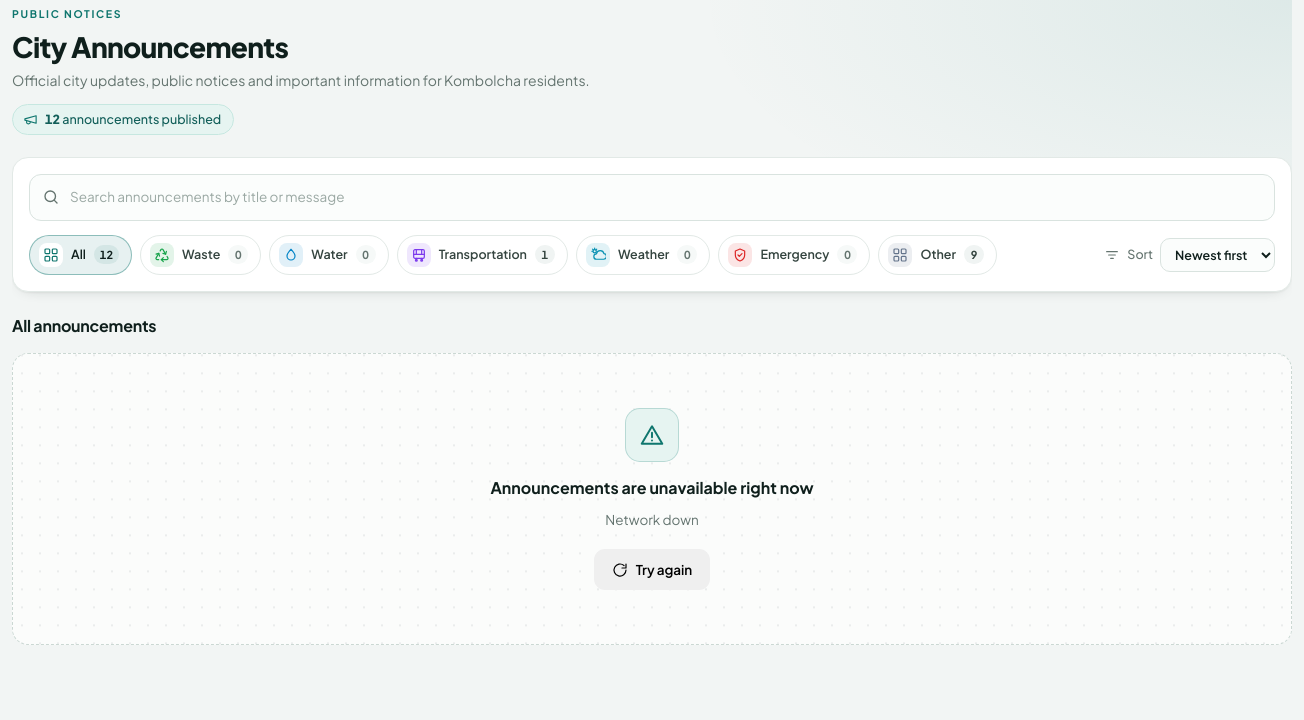
Scenario: Announcements feed › shows a retry action when the feed fails to load
Check: the heading "Announcements are unavailable right now" is shown, box [490,476,814,500]
Check: the text "Network down" is shown, box [605,510,699,531]
Click the button "Try again": [652, 570] box [594,549,710,590]
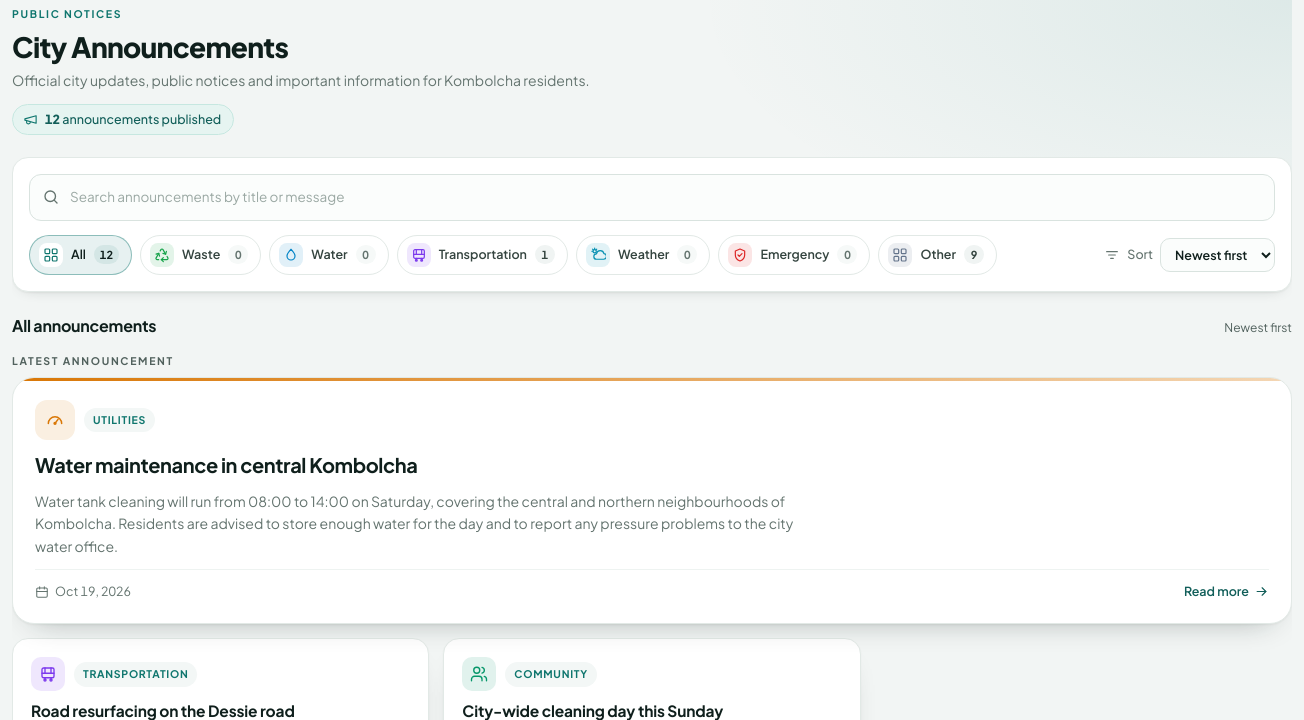
Check: the heading "Water maintenance in central Kombolcha" is shown, box [35,452,417,477]
